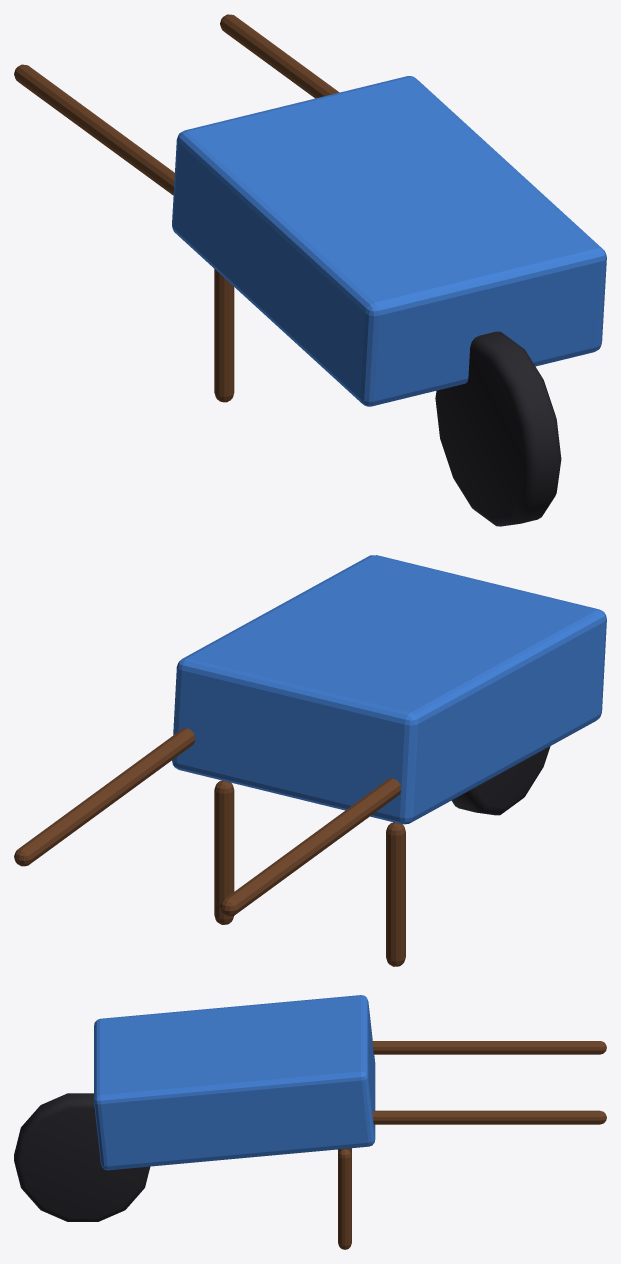
File: wheelbarrow.glb
3 renders of one model, top to bottom at view 1: azimuth 30°, elevation 25°; view 2: azimuth 150°, elevation 25°; view 3: azimuth 270°, elevation 25°, orthographic. The views are drawn at different scales.
Visible parts, largest first — view 1: wheelbarrow; view 2: wheelbarrow; view 3: wheelbarrow.
Part boxes in pixels (x1=…): wheelbarrow: x1=14, y1=14, x2=606, y2=526; wheelbarrow: x1=14, y1=555, x2=606, y2=966; wheelbarrow: x1=14, y1=995, x2=606, y2=1249.
Bounding box in the file's own units: 0.7 × 0.7467 × 2.15.
